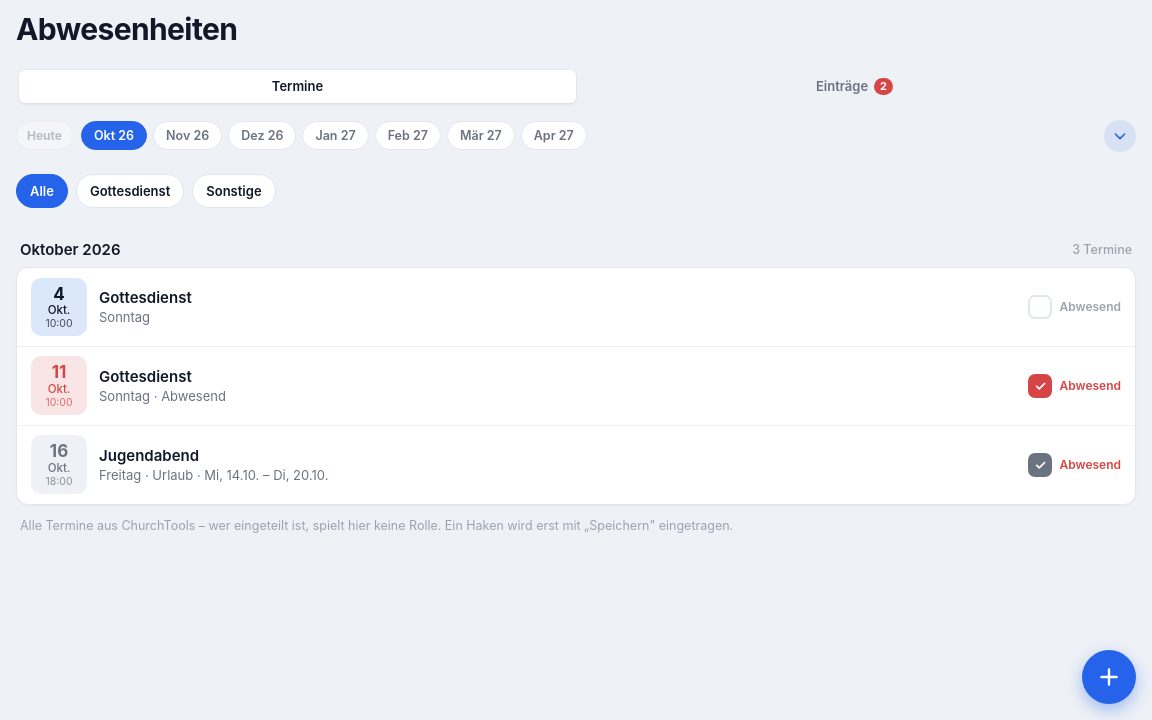
Test case: Abwesenheiten – Termin-Filter (#400) › ein Termin, der zu keiner Art passt, steht unter „Sonstige"
Click the button "Sonstige": (234, 190) x1=192 y1=174 x2=276 y2=208
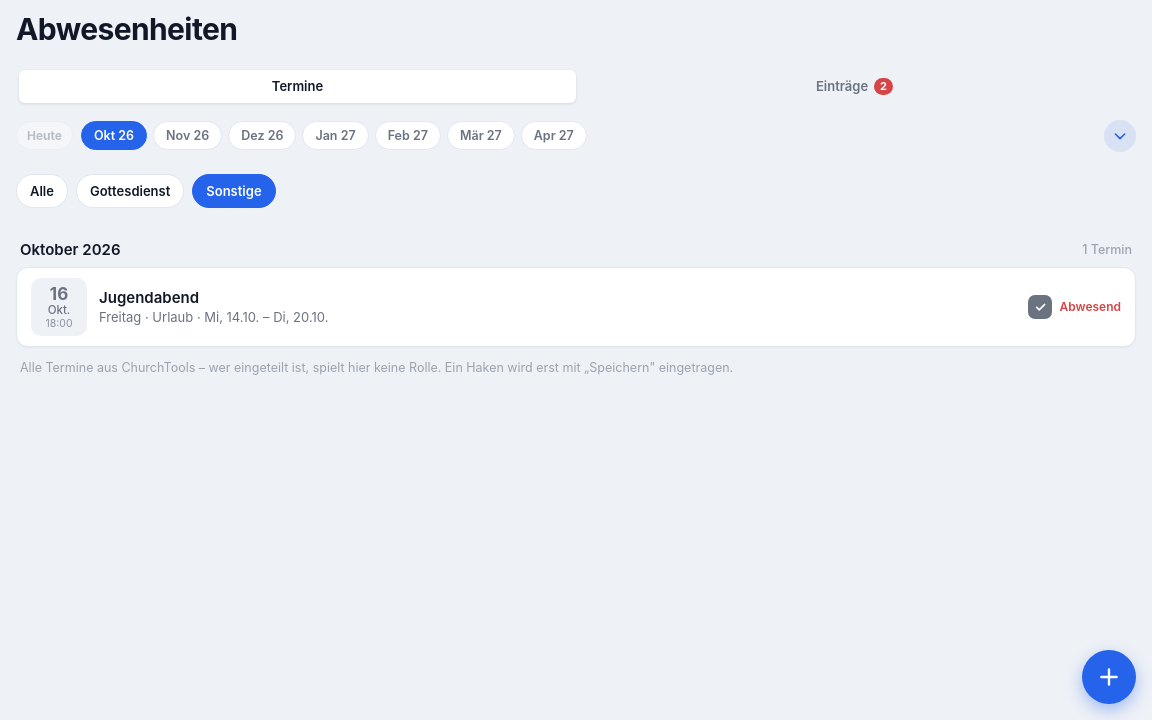
Expected: the button with aria-label "16.10." is shown, x1=1022 y1=291 x2=1121 y2=323
Expected: the text "1 Termin" is shown, x1=1082 y1=242 x2=1132 y2=256
